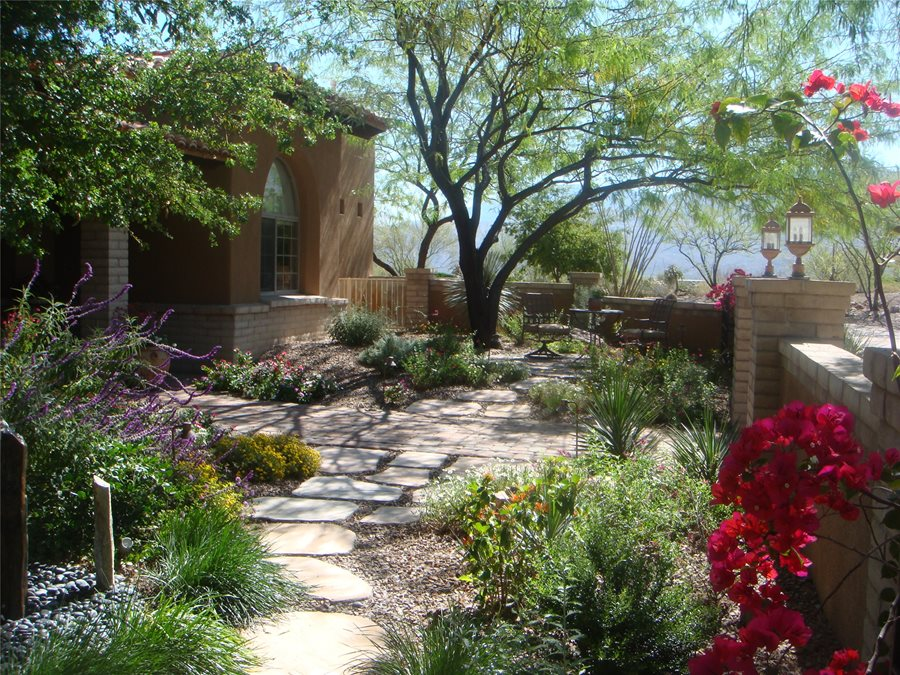tree: (289, 6, 815, 347)
